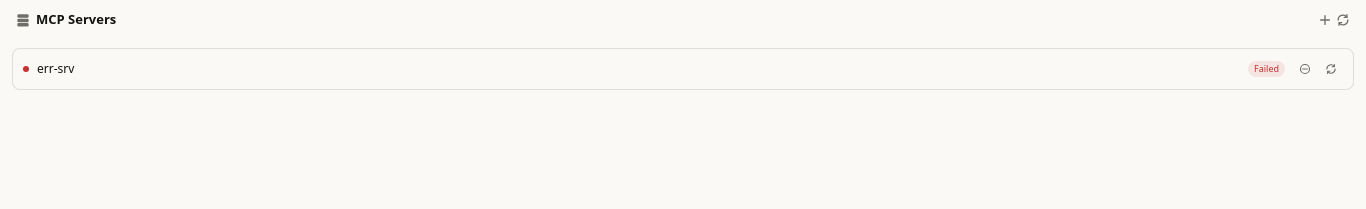
Scenario: McpSection server row expansion › shows error message when server has an error
Expand the server
Click the button "err-srv".
click(56, 68)  # box [37,60,1240,78]
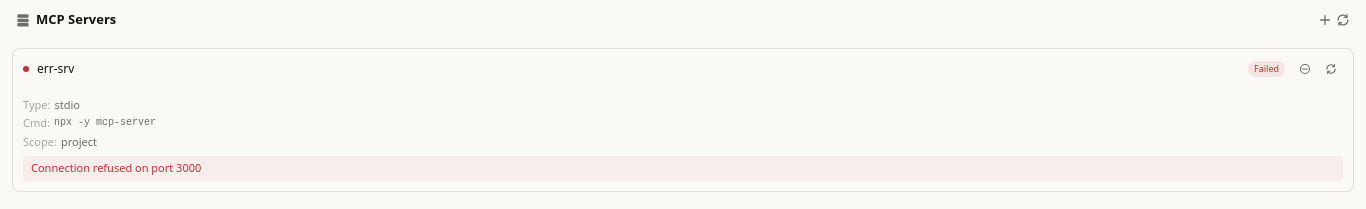
Result: the text "Connection refused on port 3000" is shown at [23,156,1343,180]
